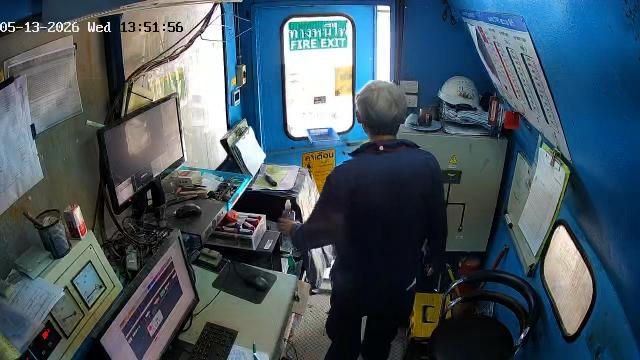Head: (356, 81, 406, 138)
People: (280, 81, 446, 359)
